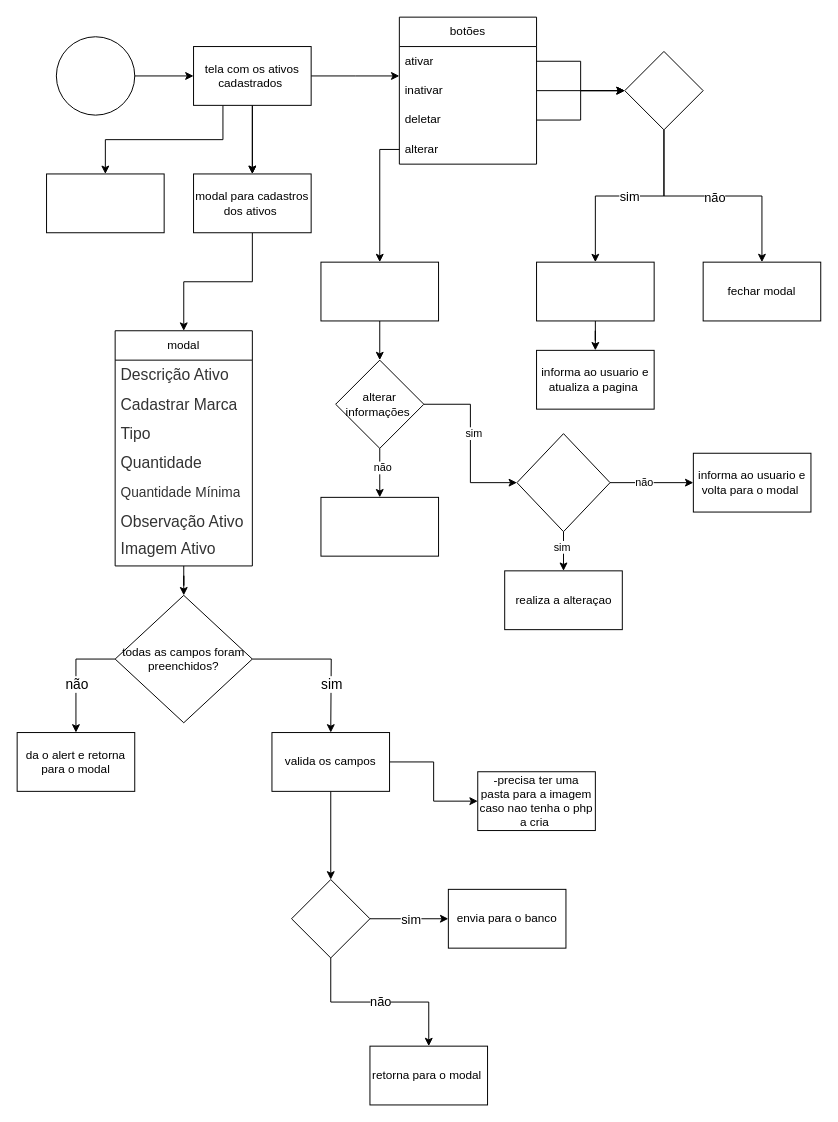
This 838x1122 diagram has some shape labels left out. The centre of each missing label's shape, as x and y in pixels:
"abrir modal com as informações do ativo" belongs at point (379, 291).
"deseja realizar a ação" belongs at point (663, 90).
"deu certo?" belongs at point (330, 918).
"executar a ação" belongs at point (595, 291).
"exibe as informações do tipo" belongs at point (379, 526).
"inicio" belongs at point (95, 75).
"menu superior" belongs at point (105, 203).
"validar os dados com as mesmas regras do cadastro" belongs at point (563, 482).
